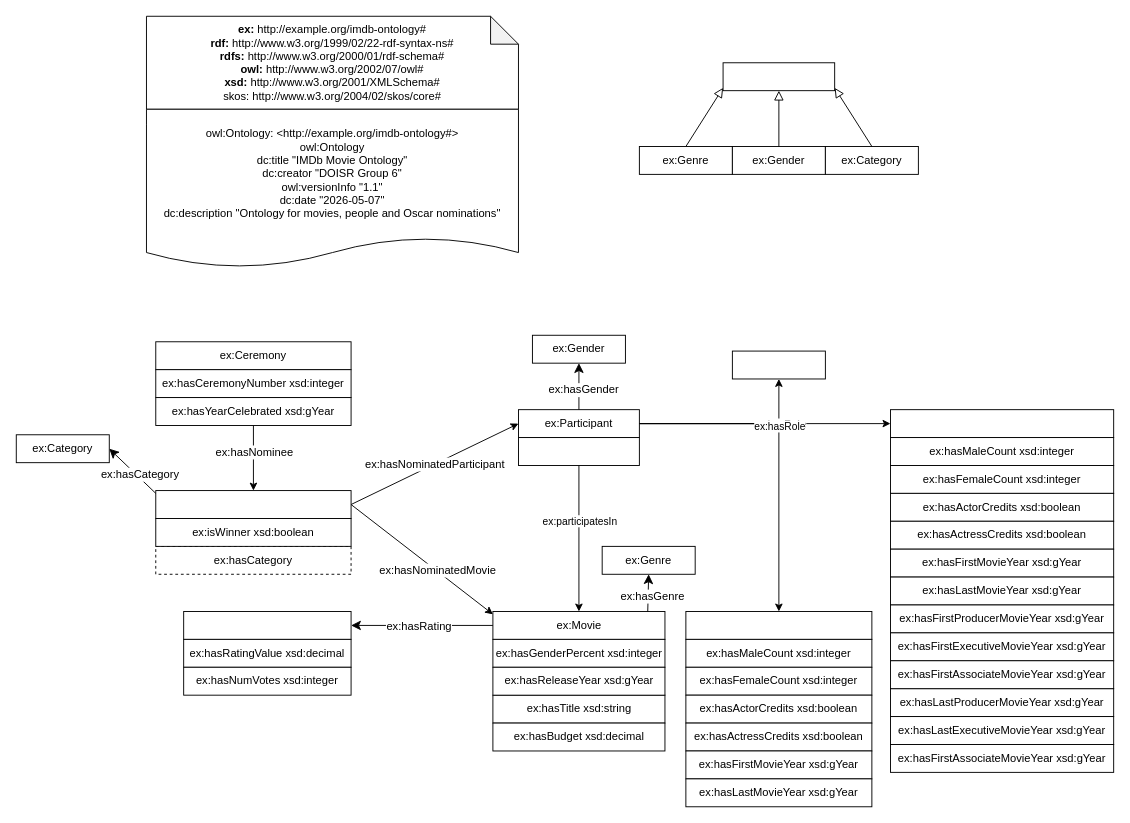
The diagram is 1130 pixels wide and 823 high, and some of its shapes have lost their labels. Here are the shapes that lost their labels. From the top down, the centre of each, then its label:
At (x=778, y=76): "skos:Concept".
At (x=778, y=364): "ex:Actor".
At (x=1002, y=423): "ex:Producer".
At (x=578, y=451): "ex:hasName xsd:string".
At (x=253, y=504): "ex:Nominee".
At (x=267, y=625): "ex:Rating".
At (x=778, y=625): "ex:Director".
